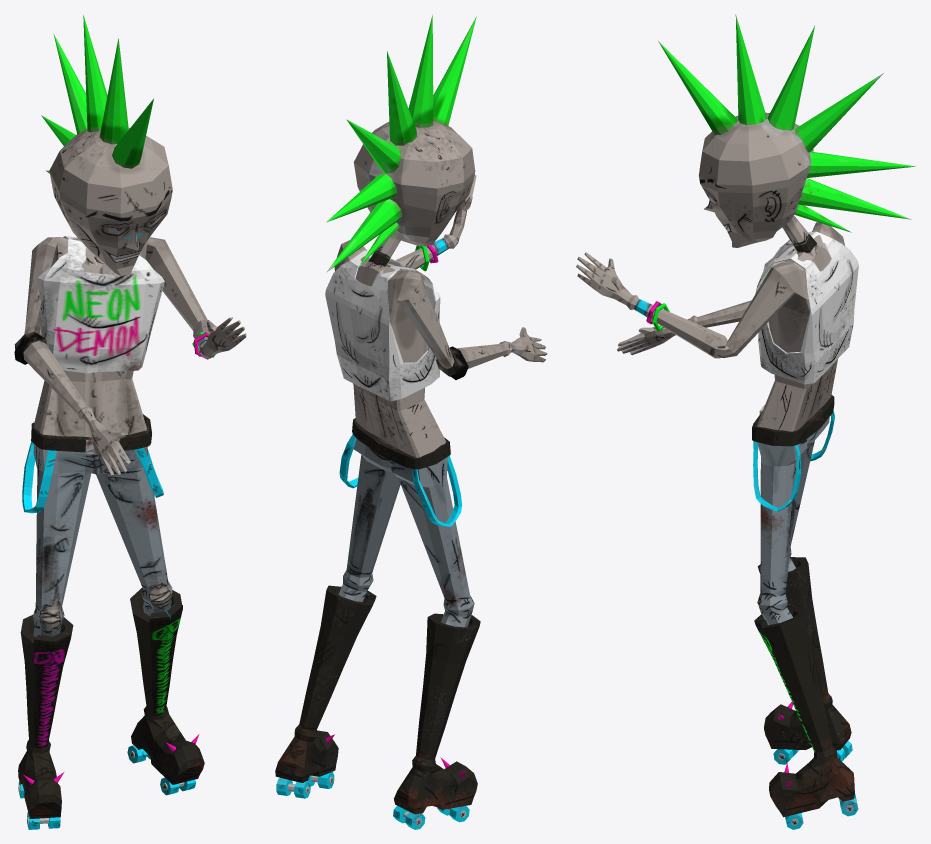
The model's file is punkAnimation_000013.obj.
3 renders of one model, left to right at view 1: azimuth 30°, elevation 25°; view 2: azimuth 150°, elevation 25°; view 3: azimuth 270°, elevation 25°, orthographic. The views are drawn at different scales.
Parts seen in each view (by area): view 1: Cube.004_Cube.003; view 2: Cube.004_Cube.003; view 3: Cube.004_Cube.003.
Part boxes in pixels (x1,y1,x2,y2): Cube.004_Cube.003: (14, 15, 246, 829); Cube.004_Cube.003: (275, 15, 547, 829); Cube.004_Cube.003: (576, 14, 916, 829).
Bounding box in the file's own units: 1.77 × 7.53 × 3.03.
